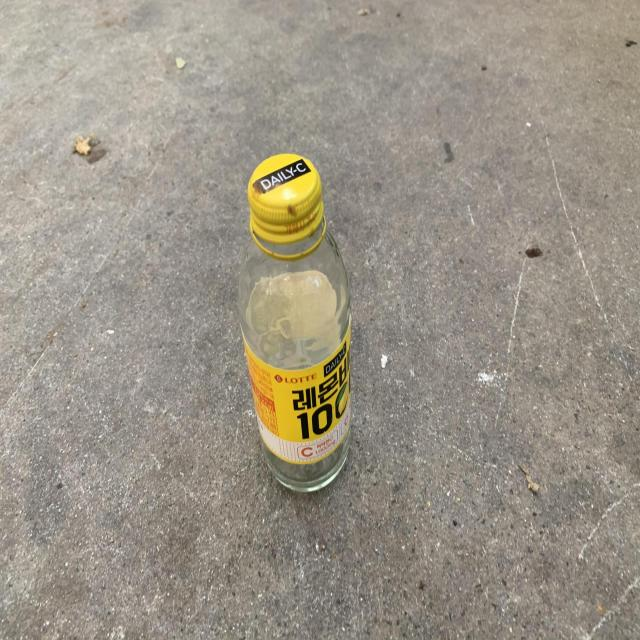glass: (238, 153, 351, 491)
